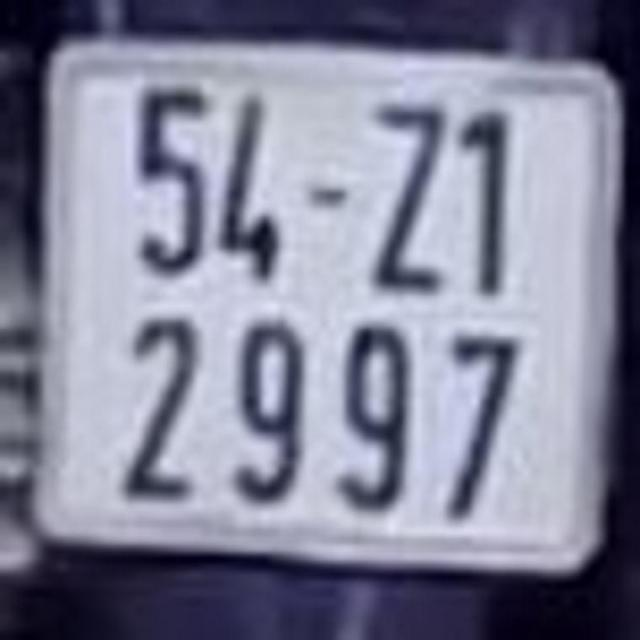1: (456, 74, 529, 304)
2: (121, 315, 202, 511)
4: (220, 77, 288, 296)
5: (126, 82, 212, 290)
7: (439, 314, 525, 536)
9: (336, 304, 412, 518), (232, 298, 306, 511)
Z: (359, 75, 452, 295)
